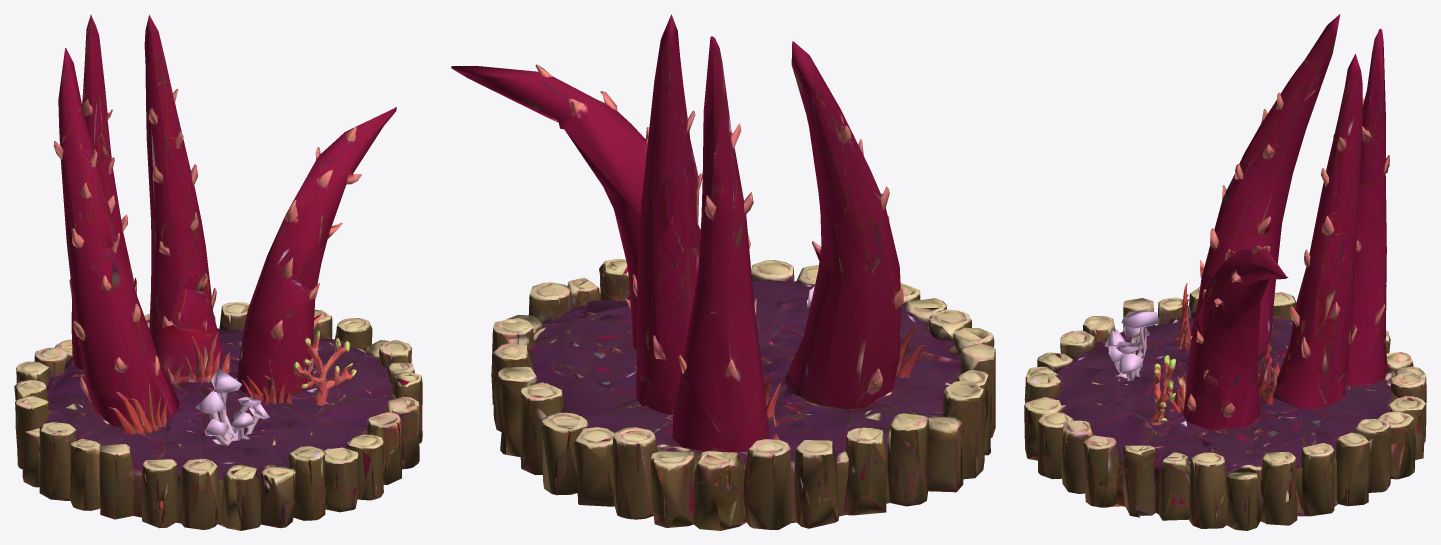
File: suckulent.glb
The picture shows the model from 3 angles, left to right: view 1: azimuth 30°, elevation 25°; view 2: azimuth 150°, elevation 25°; view 3: azimuth 270°, elevation 25°; orthographic projection. The views are drawn at different scales.
Bounding box in the file's own units: 1.9 × 1.79 × 1.69.
1 material, 1 textured.
